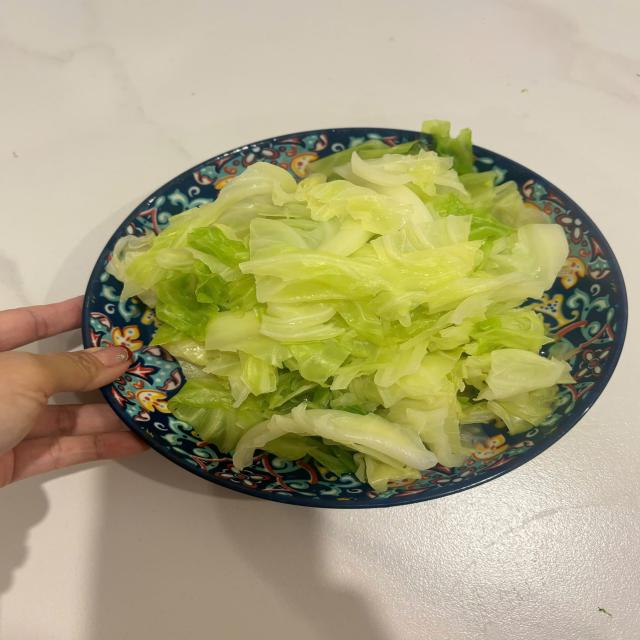bap cai luoc: (107, 145, 572, 490)
